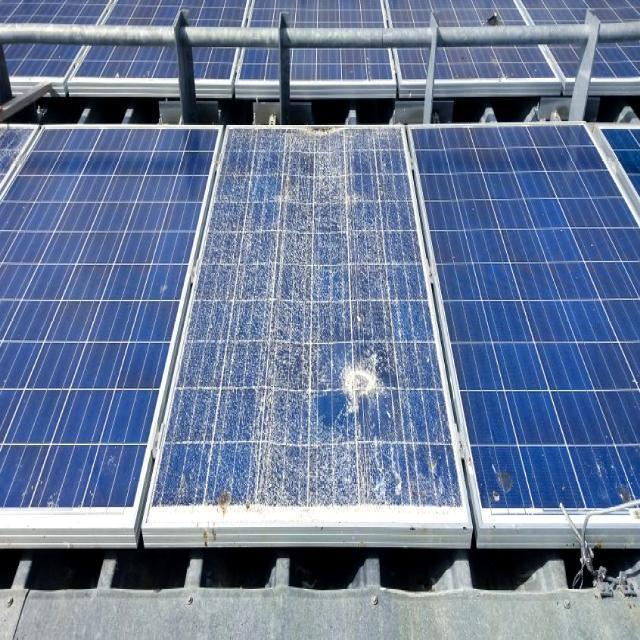cracked: (165, 127, 463, 538)
